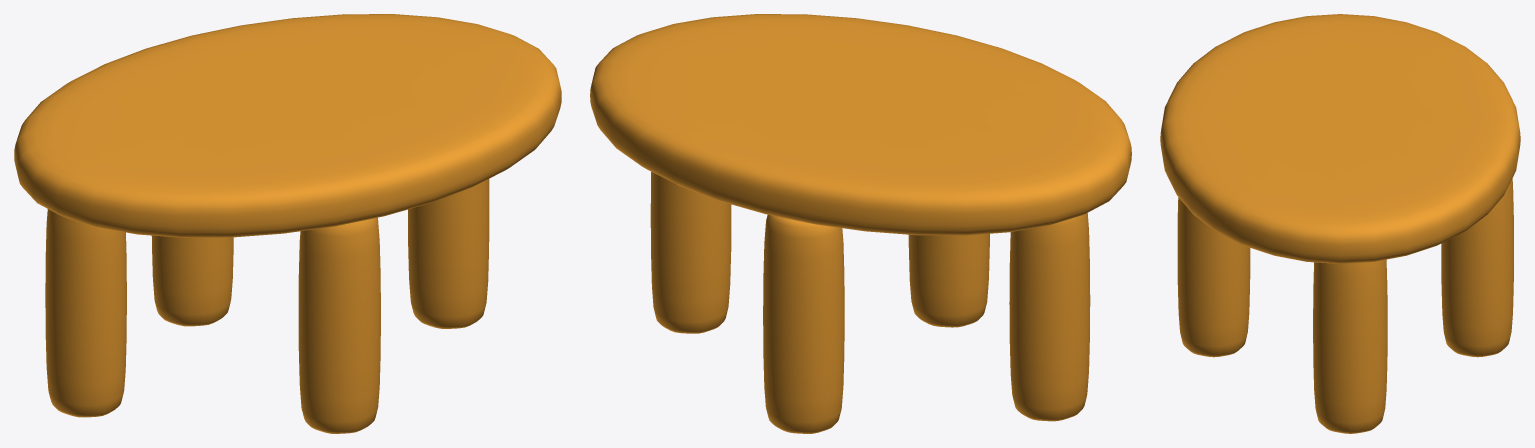
The model's file is CoffeeTable.fbx.
The picture shows the model from 3 angles, left to right: view 1: azimuth 30°, elevation 25°; view 2: azimuth 150°, elevation 25°; view 3: azimuth 270°, elevation 25°; orthographic projection. The views are drawn at different scales.
Visible parts, largest first — view 1: Circle; view 2: Circle; view 3: Circle.
Part boxes in pixels (left/top/right/bottom): Circle: left=14, top=14, right=561, bottom=433; Circle: left=590, top=14, right=1131, bottom=433; Circle: left=1160, top=14, right=1520, bottom=433.
Bounding box in the file's own units: 107 × 52.64 × 72.86.
